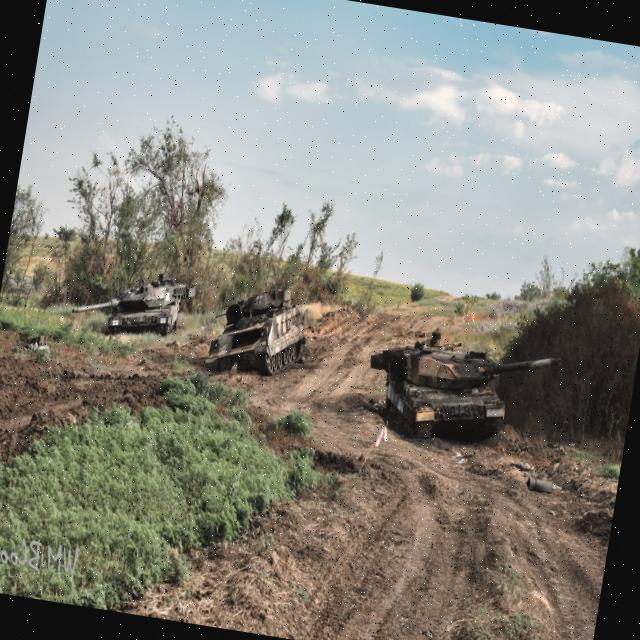AIFV: (201, 276, 317, 392)
MBT: (359, 320, 568, 460), (69, 259, 201, 347)
